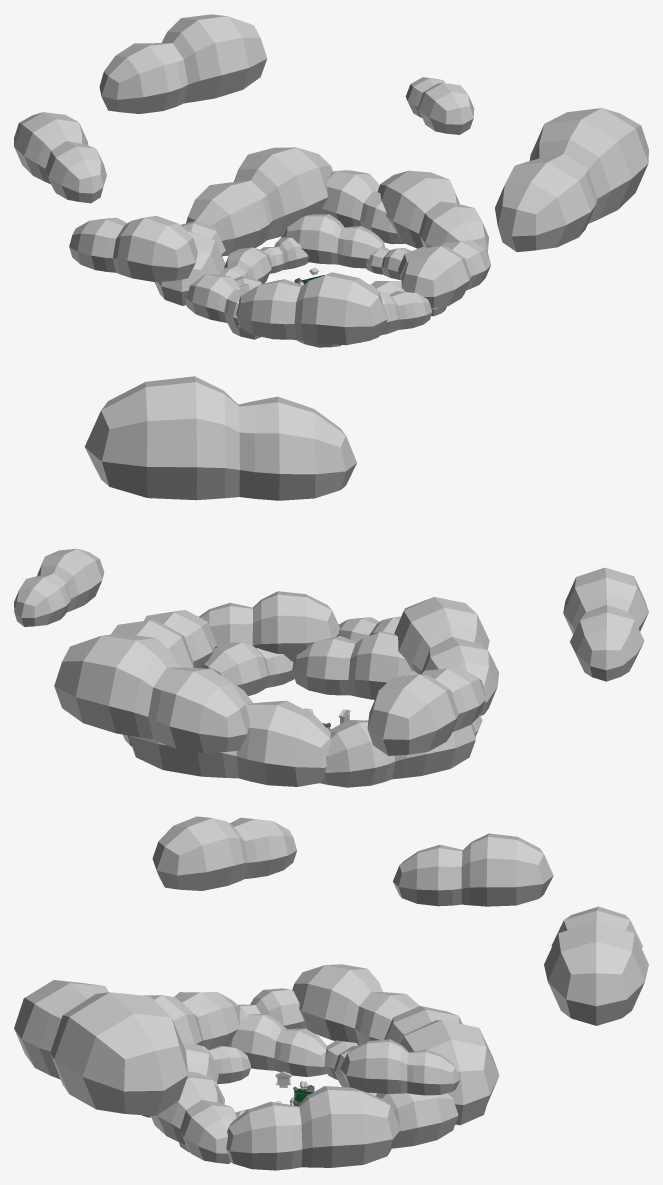
File: todo.fbx
3 views of the same model, one above another, from view 1: azimuth 30°, elevation 25°; view 2: azimuth 150°, elevation 25°; view 3: azimuth 270°, elevation 25° (orthographic). The views are drawn at different scales.
Parts seen in each view (by area): view 1: NubesFondo; view 2: NubesFondo; view 3: NubesFondo.
Boxes of the visible parts, x1,y1,x2,y2 form: NubesFondo: [14, 14, 648, 347]; NubesFondo: [14, 376, 648, 787]; NubesFondo: [14, 816, 648, 1170].
Bounding box in the file's own units: 62358 × 22834 × 59613.
